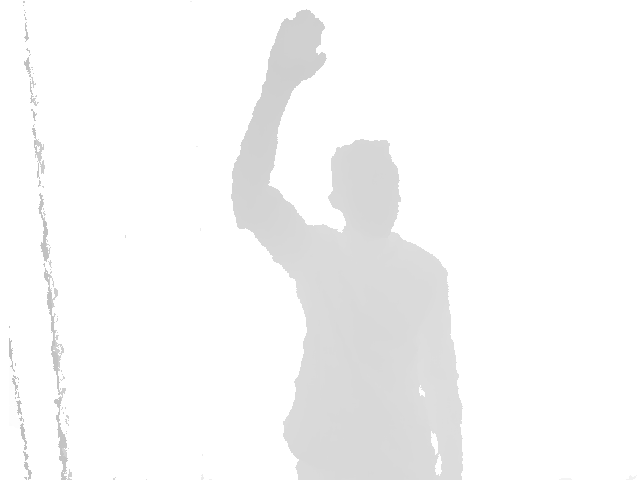hand: (261, 9, 326, 92)
head: (329, 139, 403, 239)
person: (230, 9, 465, 480)
